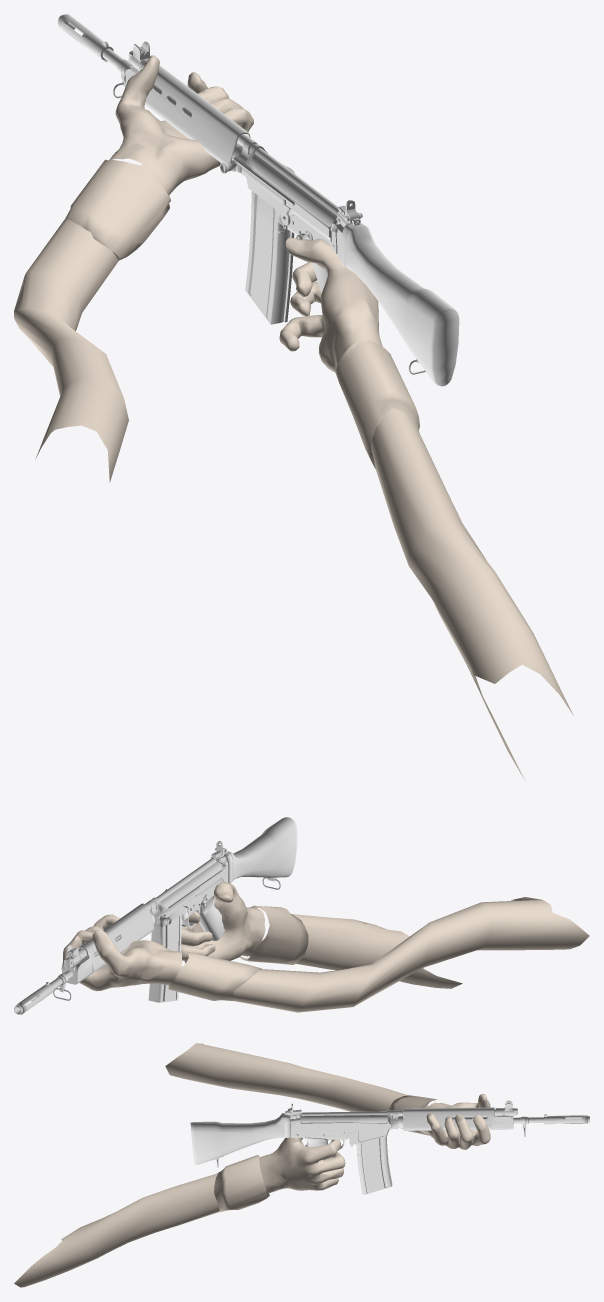
The model's file is parafal_posed.glb.
3 views of the same model, one above another, from view 1: azimuth 30°, elevation 25°; view 2: azimuth 150°, elevation 25°; view 3: azimuth 270°, elevation 25° (orthographic). The views are drawn at different scales.
Visible parts, largest first — view 1: char, body, mag; view 2: char, body, mag; view 3: char, body, mag.
Part boxes in pixels (box(x1,y1,x2,y2)): char: box(14, 55, 573, 779); body: box(57, 14, 459, 386); mag: box(245, 191, 294, 324); char: box(61, 882, 589, 1012); body: box(14, 817, 297, 1014); mag: box(148, 914, 181, 1002); char: box(14, 1043, 490, 1287); body: box(190, 1100, 589, 1167); mag: box(356, 1136, 392, 1194).
Size of the model in its own units: 0.7116 by 0.5638 by 1.44.
